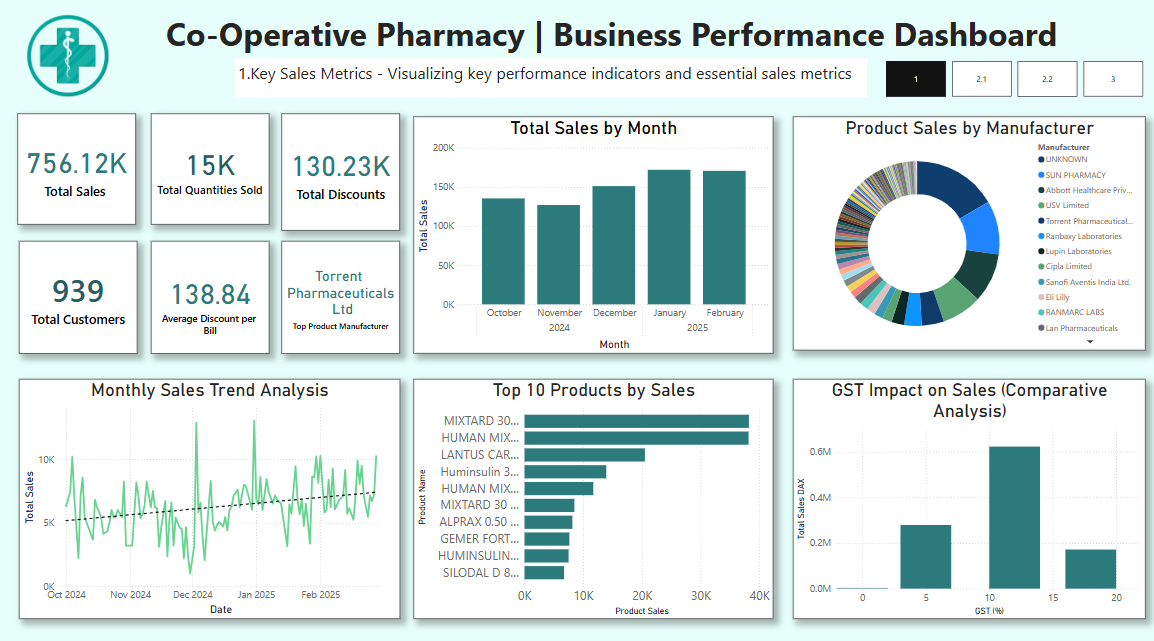

What the dashboard file says about the page in this screenshot:
{"tool":"powerbi","page":{"name":"1","canvas":[1920,1080],"ordinal":0},"visuals":[{"type":"lineChart","title":"Monthly Sales Trend Analysis","fields":{"Y":["Sheet1.Total Sales DAX"],"Category":["Sheet1.Date"]},"box":[34.8,631.1,631.1,397.6],"z":0},{"type":"barChart","title":"Top 10 Products by Sales","fields":{"Category":["Sheet1.Product Name"],"Y":["Sheet1.Product Sales"]},"box":[688.3,631.1,596.3,397.6],"z":1000},{"type":"donutChart","fields":{"Category":["Sheet1.Manufacturer"],"Y":["Sheet1.Product Sales"]},"box":[1316.9,196.3,583.9,387.6],"z":2000},{"type":"card","fields":{"Values":["RFM_Table.Average Discount per Bill"]},"box":[253.4,402.5,196.3,186.4],"z":3000},{"type":"card","fields":{"Values":["Sheet1.Top Product Manufacturer"]},"box":[469.6,402.5,196.3,186.4],"z":4000},{"type":"card","fields":{"Values":["Sheet1.Total Sales DAX"]},"box":[32.3,191.3,196.3,183.9],"z":5000},{"type":"card","fields":{"Values":["Sheet1.Total Quantity"]},"box":[253.4,191.3,196.3,183.9],"z":6000},{"type":"card","title":"No.of.Customers","fields":{"Values":["Sheet1.No of Bills"]},"box":[34.8,402.5,196.3,186.4],"z":7000},{"type":"columnChart","title":"Total Sales by Month","fields":{"Y":["Sheet1.Total Sales DAX"],"Category":["Sheet1.Date.Variation.Date Hierarchy.Year","Sheet1.Date.Variation.Date Hierarchy.Month"]},"box":[688.3,196.3,596.3,392.6],"z":8000},{"type":"card","fields":{"Values":["RFM_Table.Total Discounts"]},"box":[469.6,191.3,196.3,193.8],"z":9000},{"type":"textbox","box":[273.3,17.4,1510.7,146.6],"z":10000},{"type":"columnChart","title":"GST Impact on Sales (Comparative Analysis)","fields":{"Category":["Sheet1.GST (%)"],"Y":["Sheet1.Total Sales DAX"]},"box":[1316.9,631.1,583.9,397.6],"z":11000},{"type":"image","box":[0,0,231.1,191.3],"z":12000},{"type":"textbox","box":[392.5,100,1047.5,65],"z":13000},{"type":"pageNavigator","box":[1471,104.4,429.9,59.6],"z":14000}]}

Visuals, with their boxes in screenshot pixels (x1, y1, x2, y2), scaled from the page's 1920x1080 canvas onto the 1154x641 screenshot:
"Monthly Sales Trend Analysis" lineChart: box=[21, 375, 400, 611]
"Top 10 Products by Sales" barChart: box=[414, 375, 772, 611]
donutChart - Sheet1.Manufacturer x Sheet1.Product Sales: box=[792, 117, 1142, 347]
card - RFM_Table.Average Discount per Bill: box=[152, 239, 270, 350]
card - Sheet1.Top Product Manufacturer: box=[282, 239, 400, 350]
card - Sheet1.Total Sales DAX: box=[19, 114, 137, 223]
card - Sheet1.Total Quantity: box=[152, 114, 270, 223]
"No.of.Customers" card: box=[21, 239, 139, 350]
"Total Sales by Month" columnChart: box=[414, 117, 772, 350]
card - RFM_Table.Total Discounts: box=[282, 114, 400, 229]
textbox: box=[164, 10, 1072, 97]
"GST Impact on Sales (Comparative Analysis)" columnChart: box=[792, 375, 1142, 611]
image: box=[0, 0, 139, 114]
textbox: box=[236, 59, 866, 98]
pageNavigator: box=[884, 62, 1143, 97]
